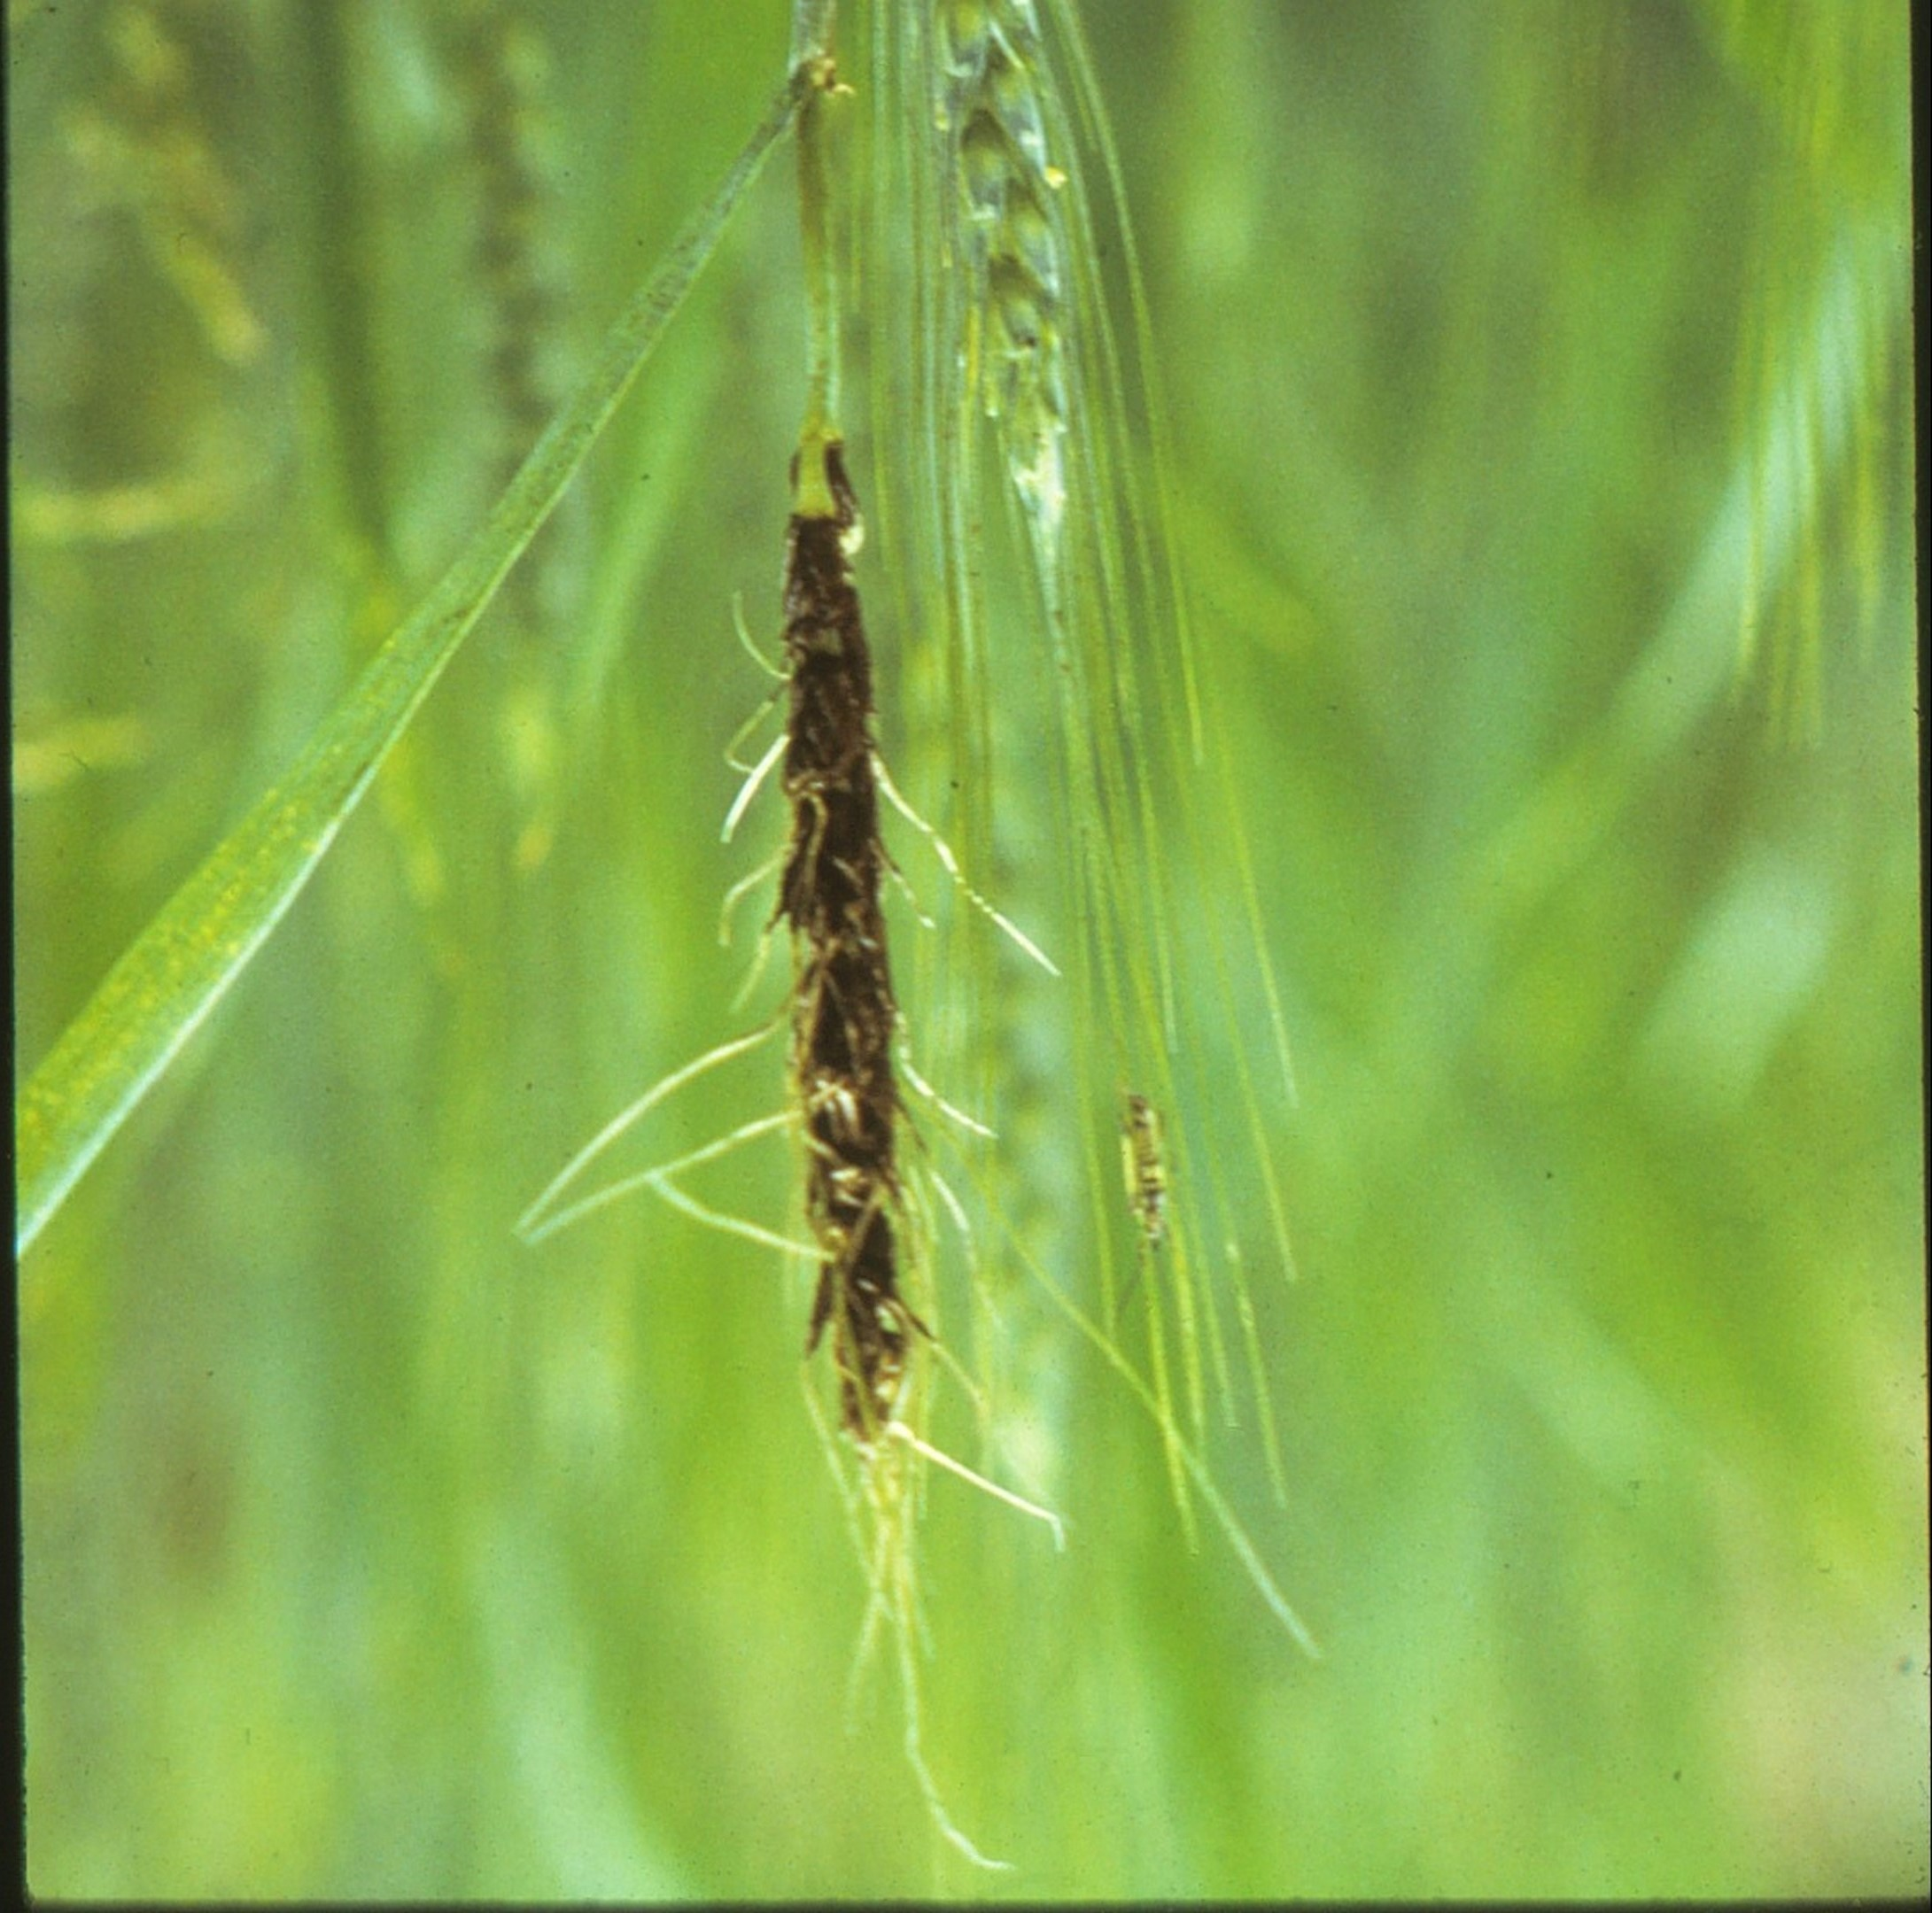Wheat Loose Smut: (718, 515, 983, 1445)
